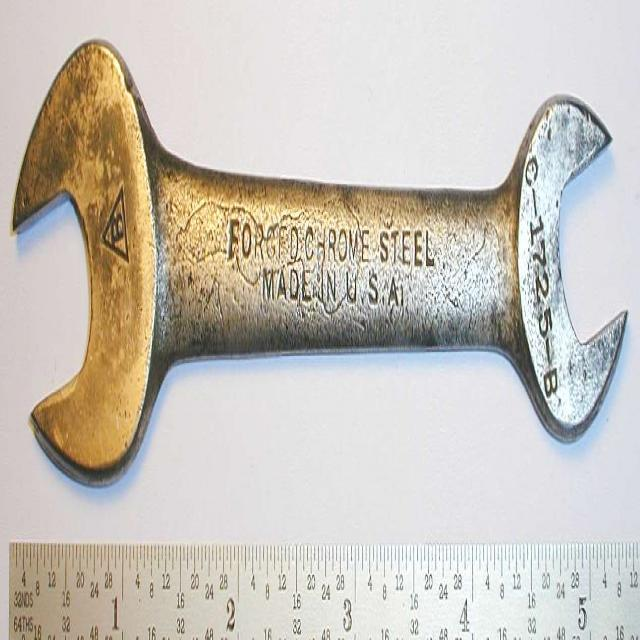wrench: (1, 25, 634, 481)
